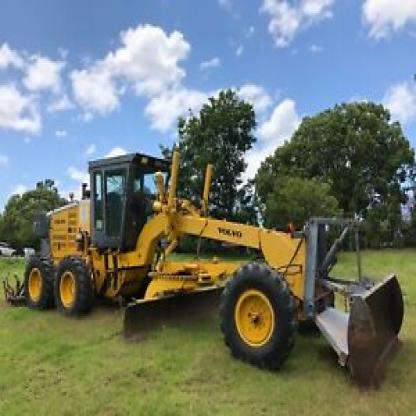light_vehicle: (46, 74, 414, 409)
